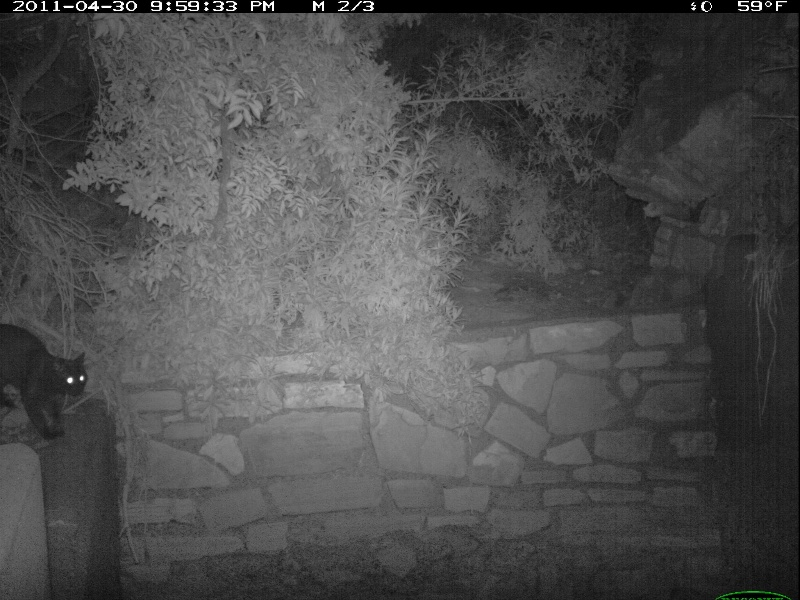cat: (1, 312, 90, 444)
